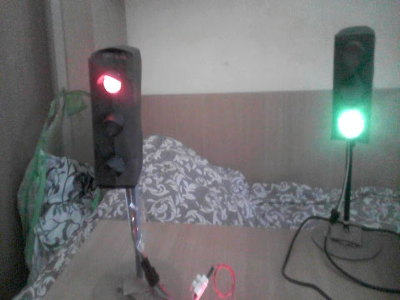trafficlight_green: (331, 28, 375, 141)
trafficlight_red: (90, 54, 132, 185)
